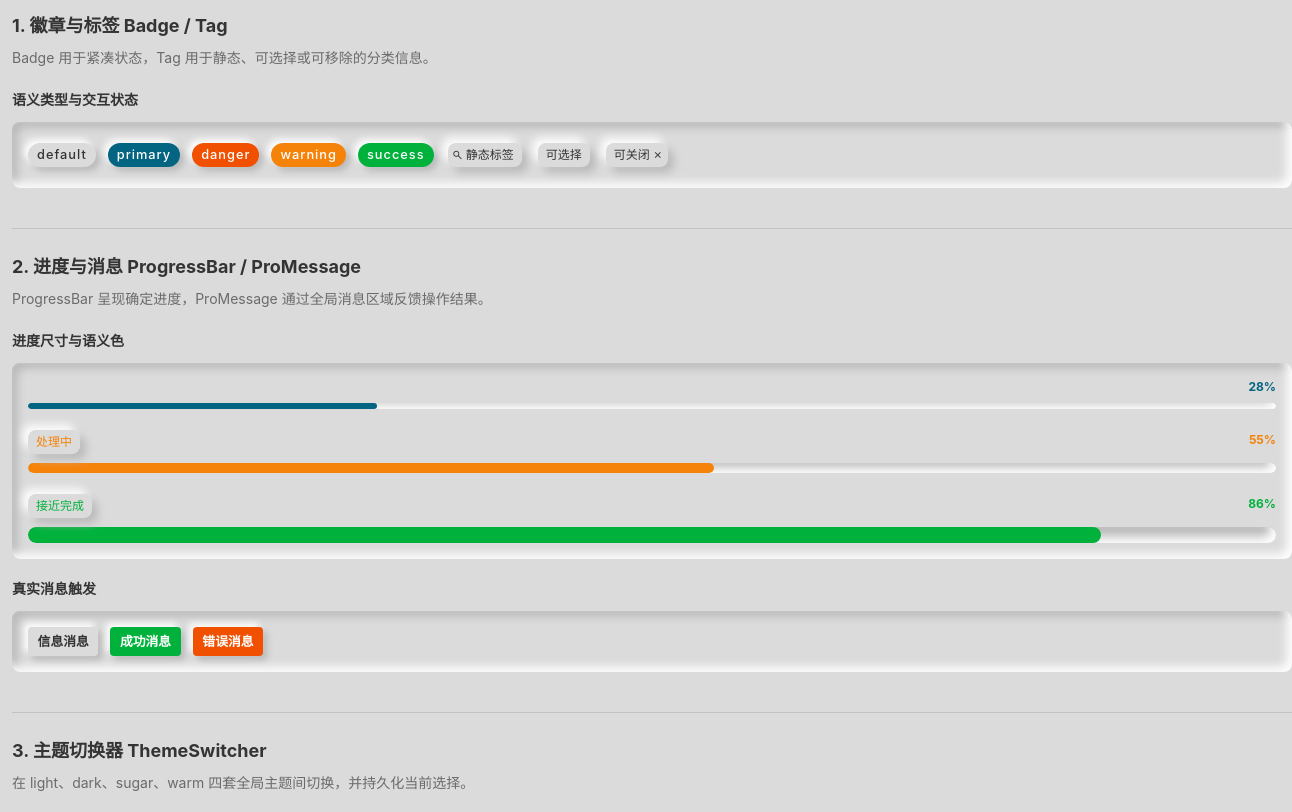
Scenario: FeedbackDemo › covers: AC-6 and AC-9, keeps tag selection and removal in local state
Click the button "可选择" at x=564, y=155, box [538,143,590,167]
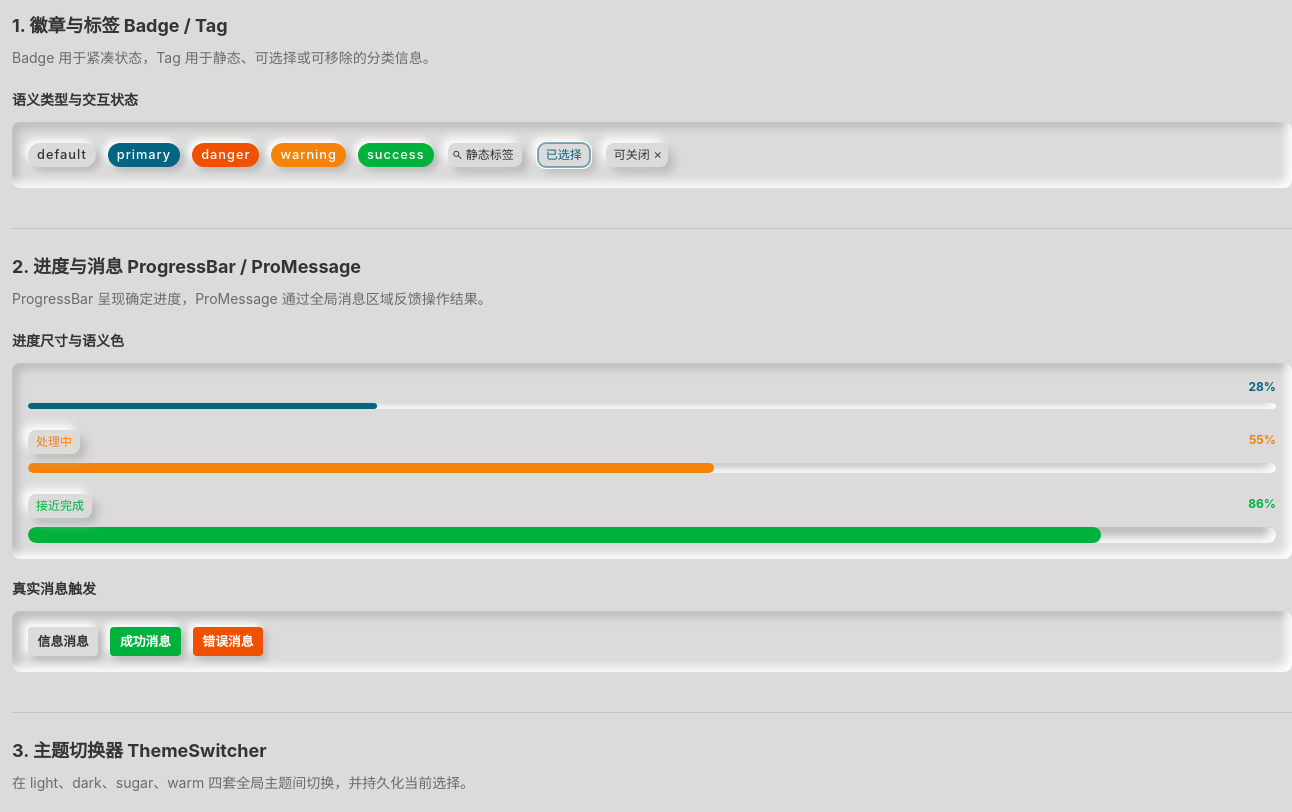
Now the button "已选择" is shown, box [538,143,590,167]
Click the button named "移除可关闭" at x=658, y=155, box [652,154,664,156]
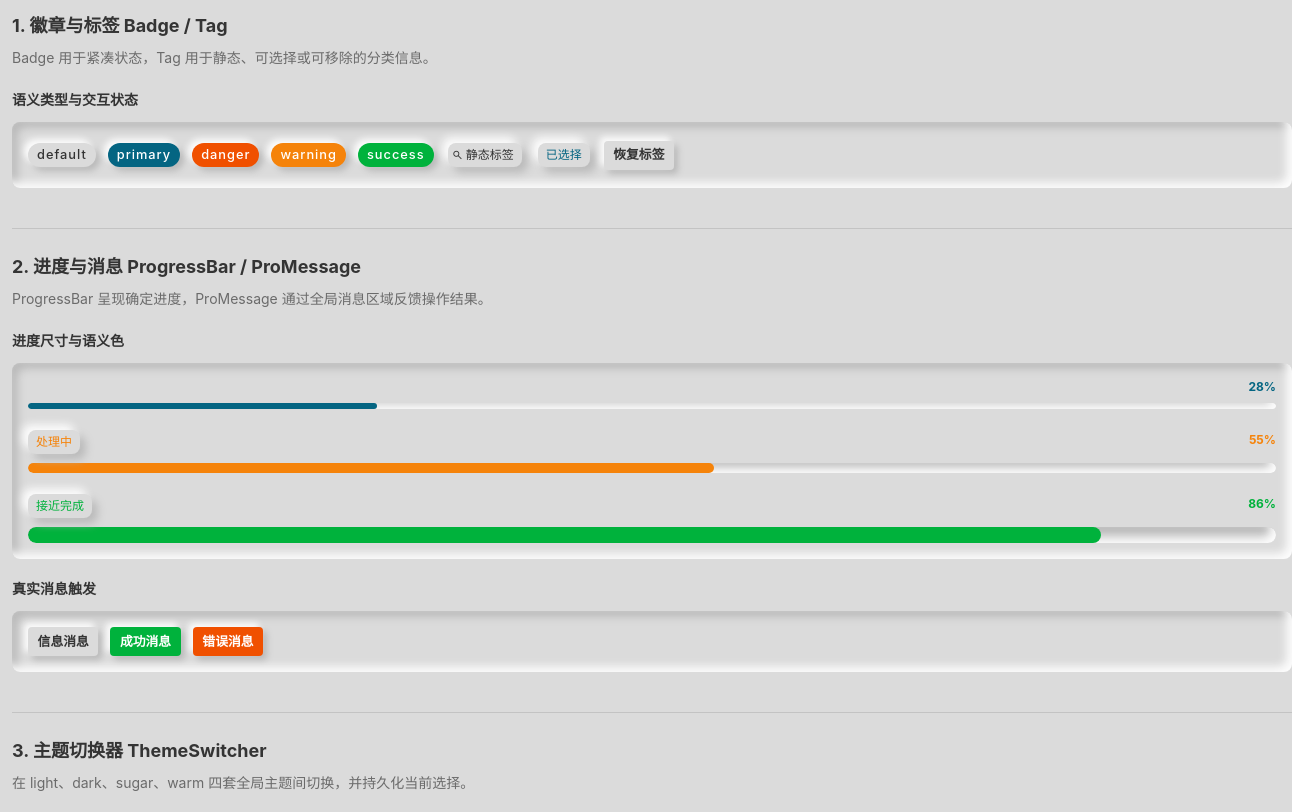
Now the text "可关闭" is gone
Click the button "恢复标签" at x=639, y=155, box [604,140,674,170]
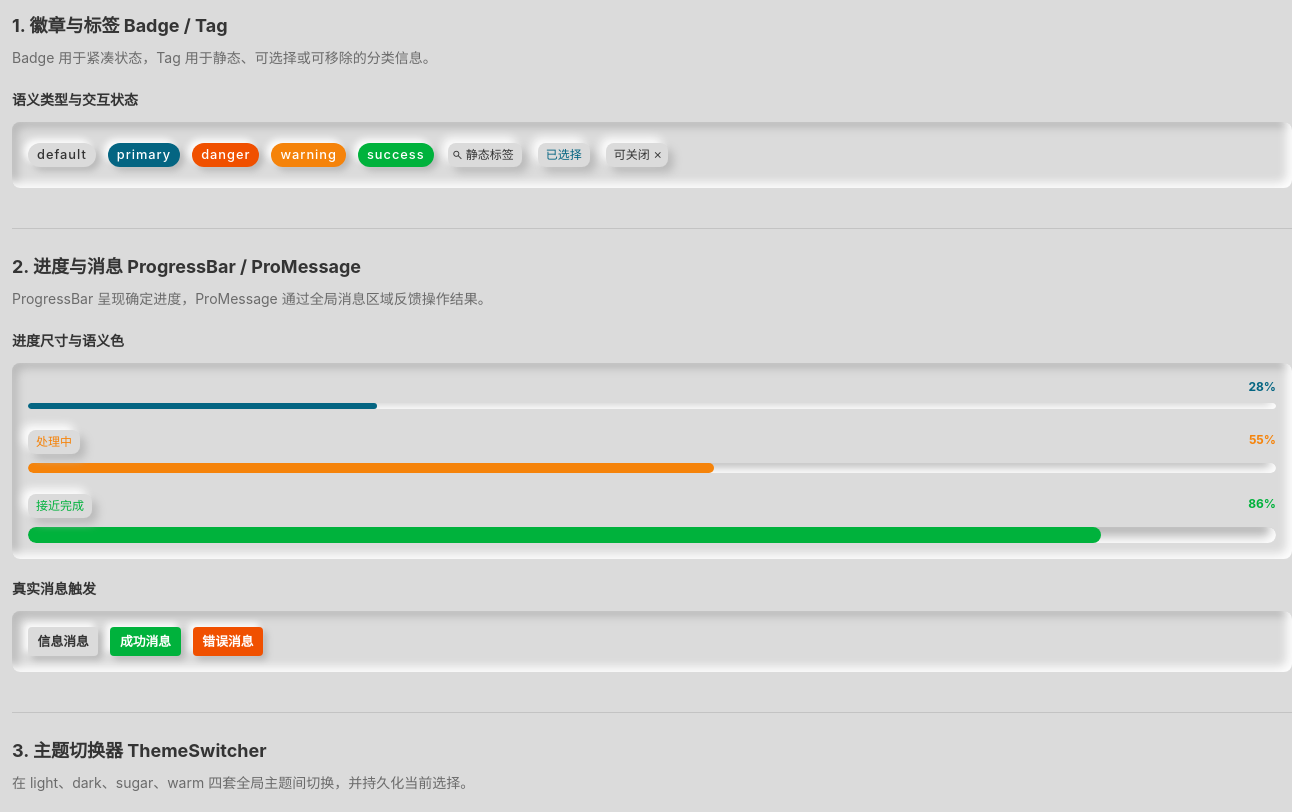
Now the text "可关闭" is shown, box [614,147,650,163]
